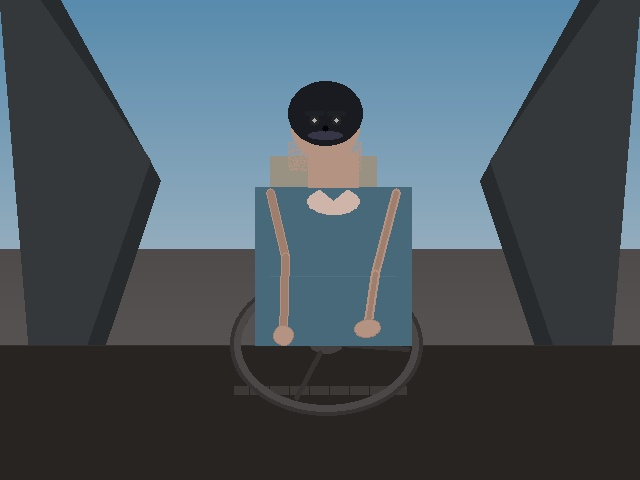normal_driving: (104, 182, 326, 344)
